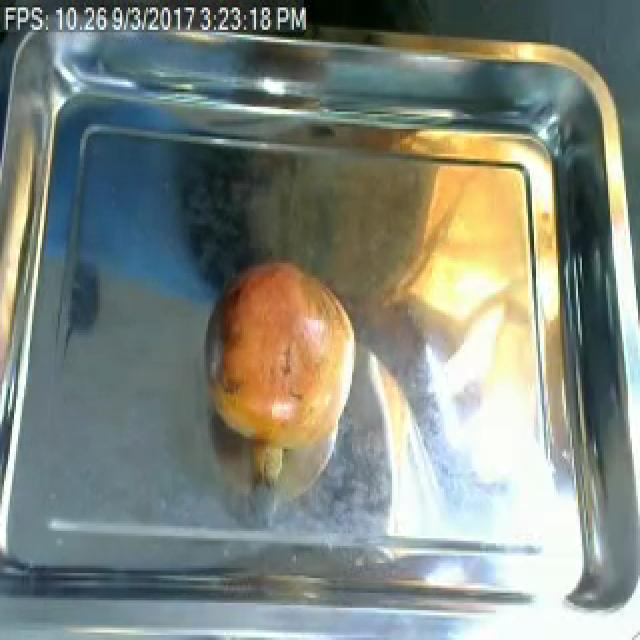fruit: (192, 241, 370, 501)
